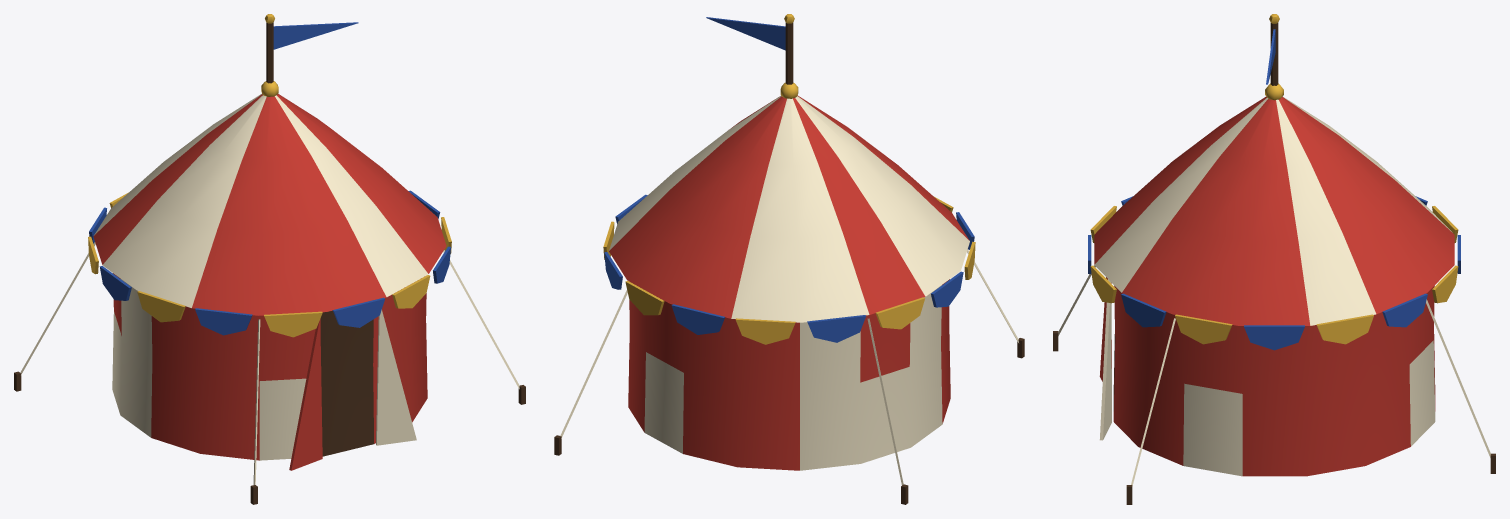
The model's file is tent_striped.glb.
3 renders of one model, left to right at view 1: azimuth 30°, elevation 25°; view 2: azimuth 150°, elevation 25°; view 3: azimuth 270°, elevation 25°, orthographic. The views are drawn at different scales.
Parts seen in each view (by area): view 1: tent_striped; view 2: tent_striped; view 3: tent_striped.
Part boxes in pixels (x1,y1,x2,y2): tent_striped: (14,14,525,504); tent_striped: (554,14,1024,504); tent_striped: (1053,14,1495,504).
Bounding box in the file's own units: 4.05 × 4.01 × 4.05.
